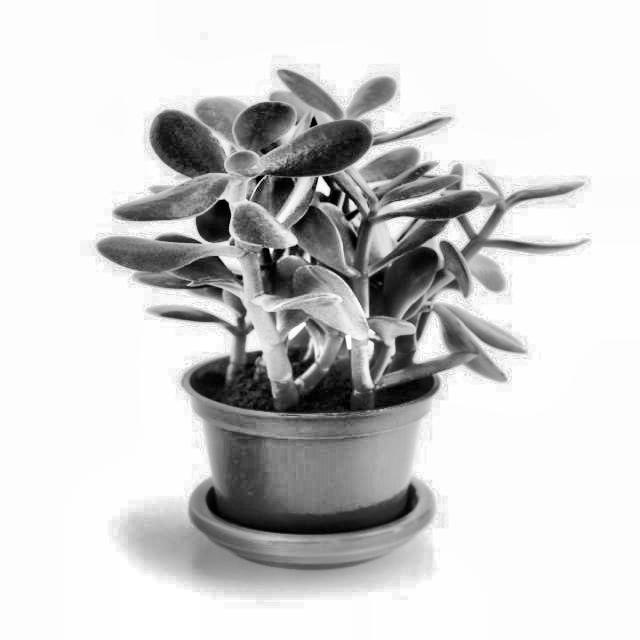plants: (100, 72, 573, 570)
